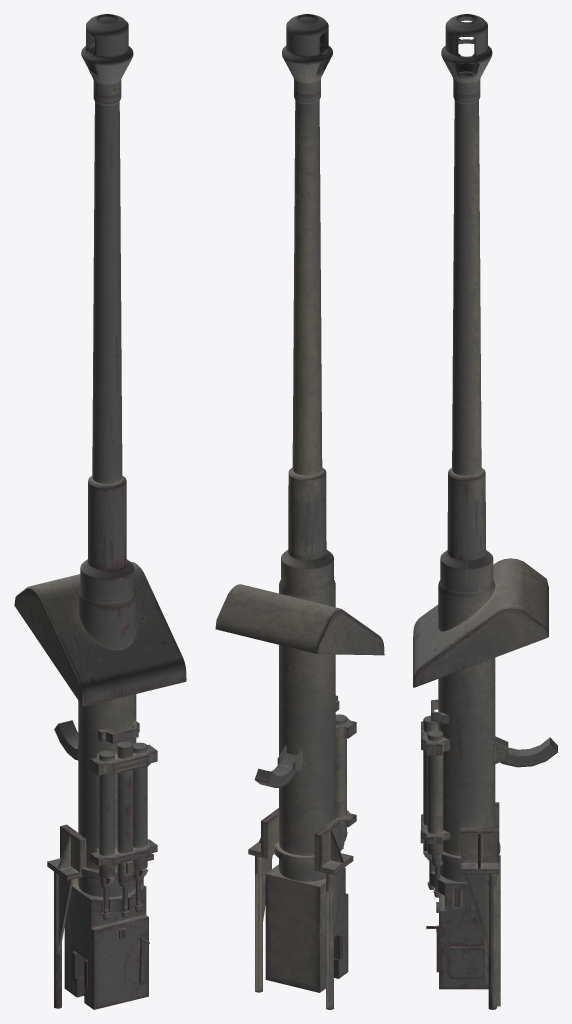
The model's file is Gun_02.glb.
3 views of the same model, side by side, from view 1: azimuth 30°, elevation 25°; view 2: azimuth 150°, elevation 25°; view 3: azimuth 270°, elevation 25° (orthographic).
Visible parts, largest first — view 1: set_0_group_0; view 2: set_0_group_0; view 3: set_0_group_0.
Part boxes in pixels (left/top/right/bottom): set_0_group_0: left=14, top=14, right=186, bottom=1009; set_0_group_0: left=215, top=14, right=384, bottom=1009; set_0_group_0: left=413, top=14, right=557, bottom=1009.
Bounding box in the file's own units: 0.926 × 8.38 × 1.13.
Materials: 1 (1 with a texture image).
